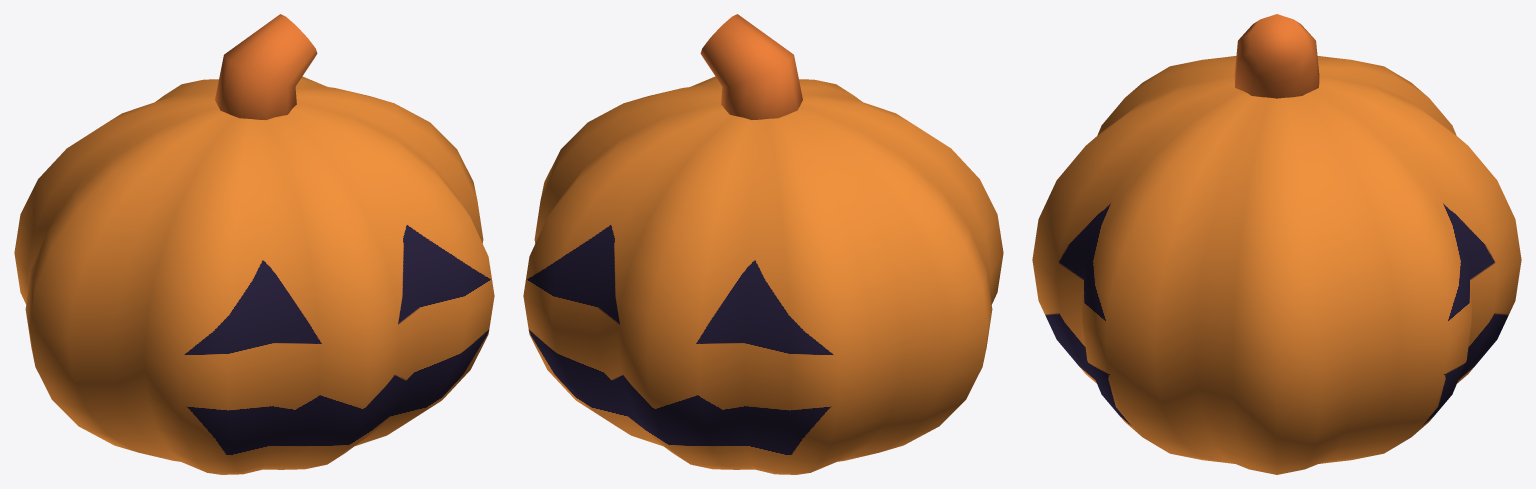
File: ACC_TH_SPOOKY_Primary.fbx
The picture shows the model from 3 angles, left to right: view 1: azimuth 30°, elevation 25°; view 2: azimuth 150°, elevation 25°; view 3: azimuth 270°, elevation 25°; orthographic projection. The views are drawn at different scales.
Visible parts, largest first — view 1: ACC_TH_SPOOKY_Primary; view 2: ACC_TH_SPOOKY_Primary; view 3: ACC_TH_SPOOKY_Primary.
Boxes of the visible parts, left/top/right/bottom form: ACC_TH_SPOOKY_Primary: left=14, top=14, right=494, bottom=474; ACC_TH_SPOOKY_Primary: left=523, top=14, right=1003, bottom=474; ACC_TH_SPOOKY_Primary: left=1032, top=14, right=1521, bottom=474.
Bounding box in the file's own units: 86 × 77.74 × 77.4.
